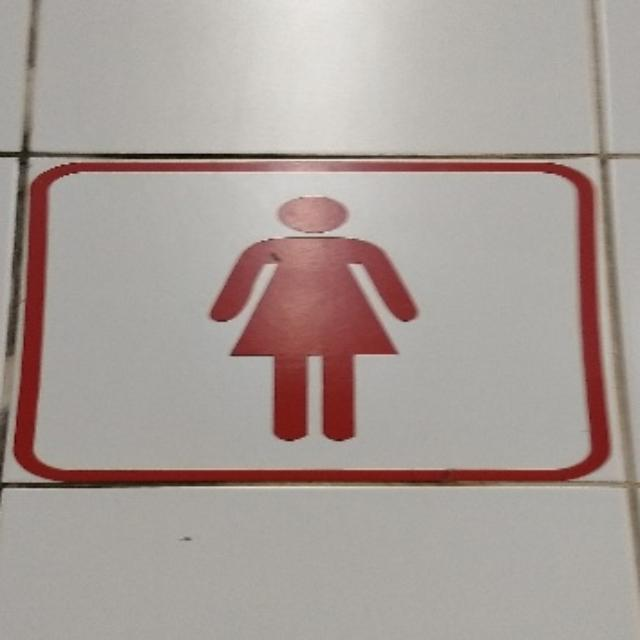wc nu: (16, 161, 606, 483)
